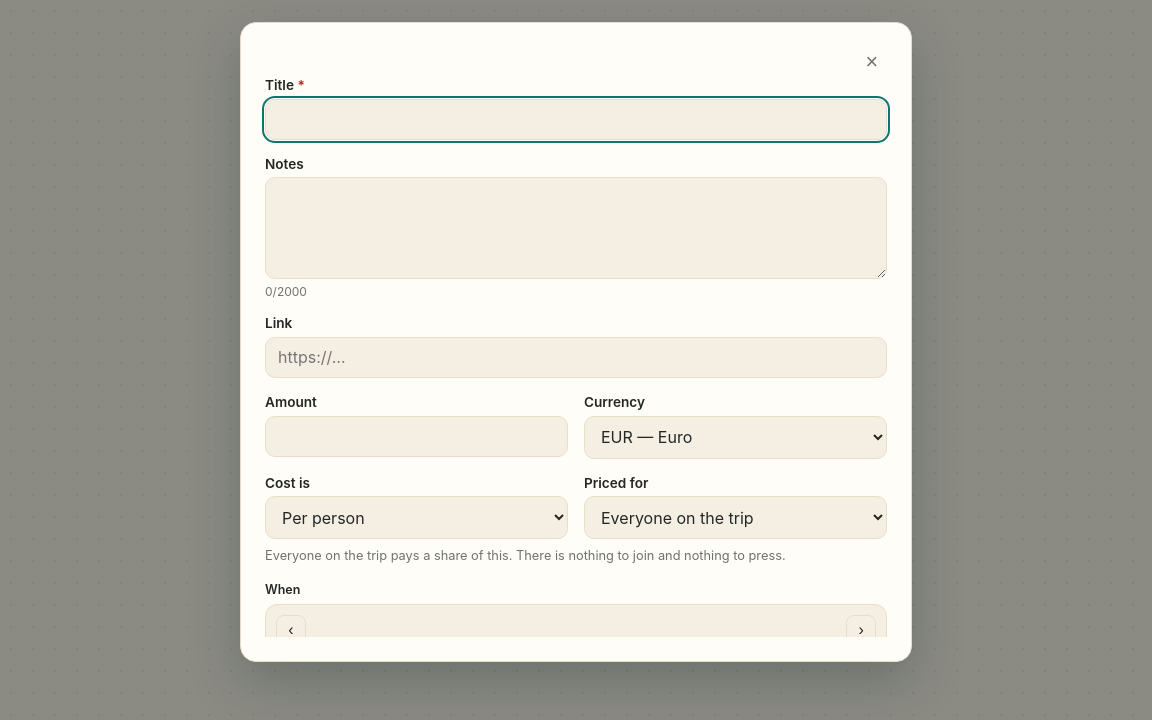
what the option form says is wrong › refuses a link that is not one, and says what a link looks like
In the field labelled "Title *": (576, 119) [265,99,887,140], type "Tram 28"
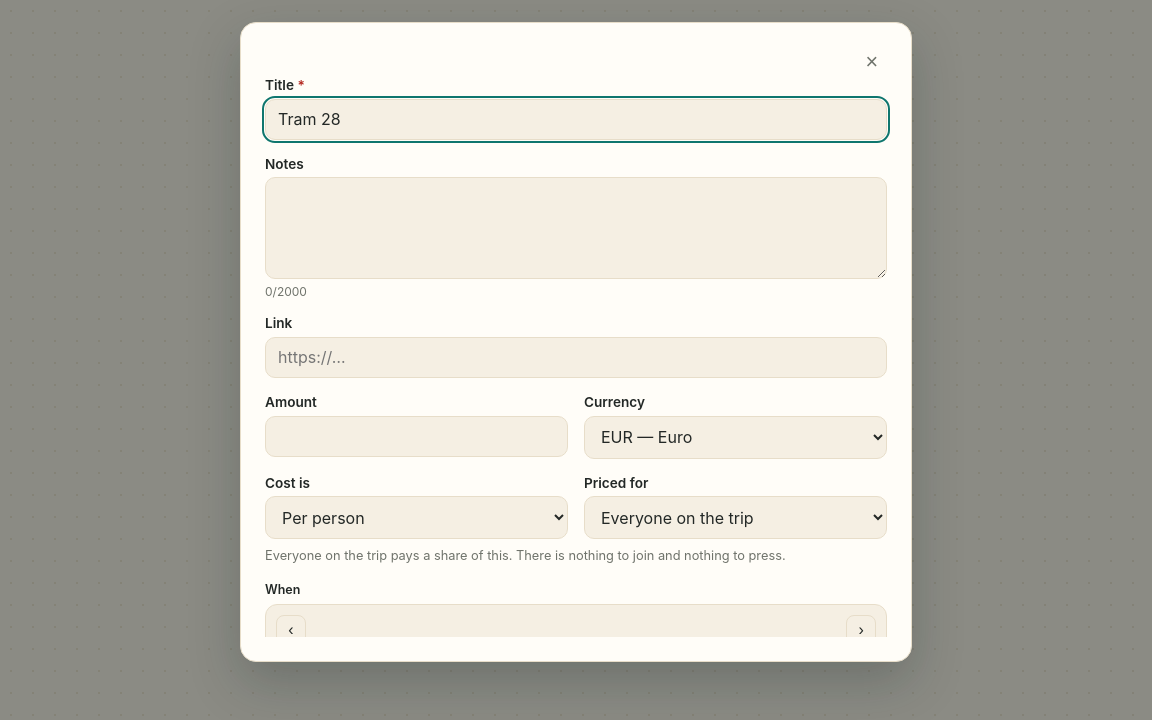
In the field labelled "Link": (576, 357) [265,337,887,378], type "javascript:alert(1)"
(page scrolled)
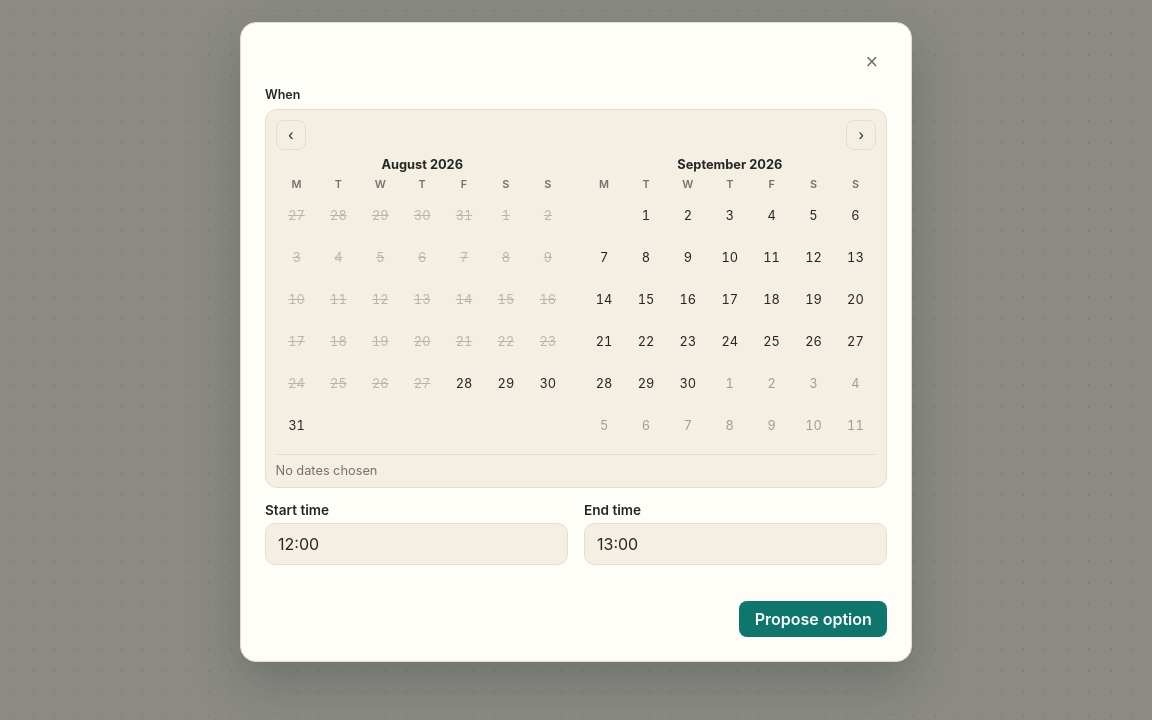
Click the button "Propose option": (813, 618) [740,600,887,636]
(page scrolled)
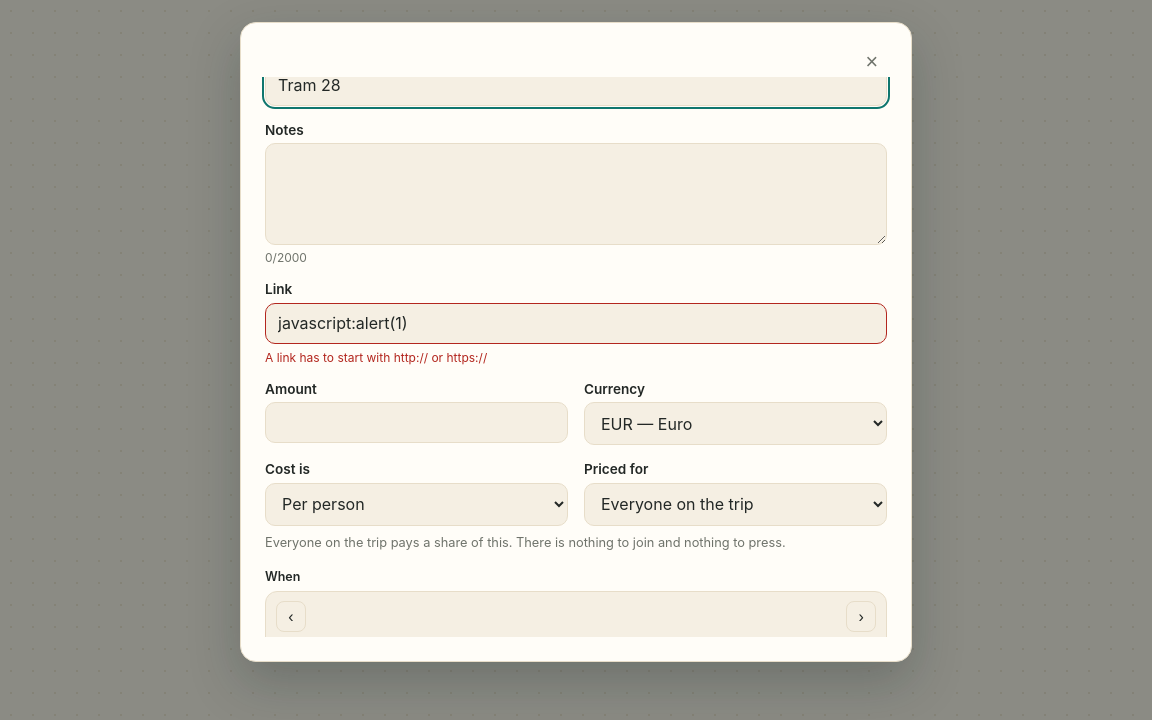
Result: the message shows "http:// or https" at [265,350,487,364]
